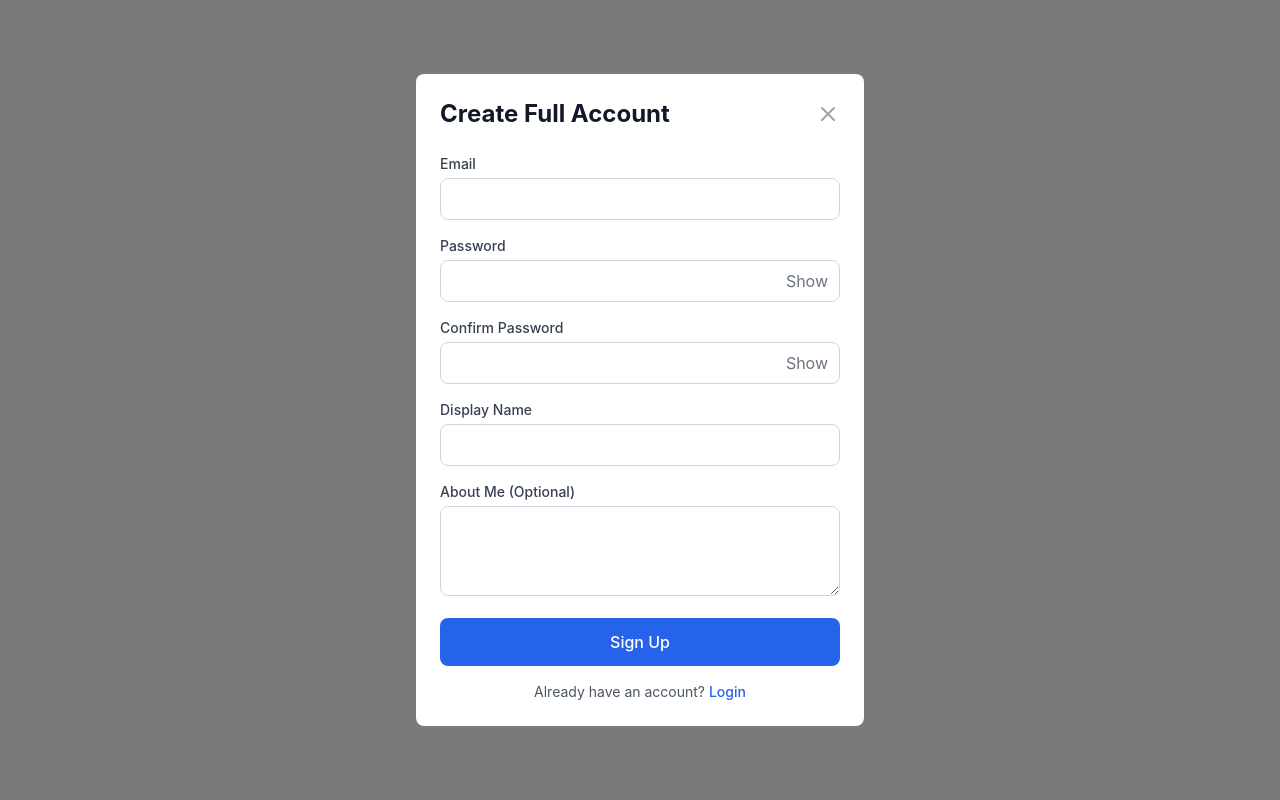
Test: SignupModal - Submission Integration › Error Handling › should display error message when signup fails
The image size is (1280, 800).
# Fill form
Type "test@example.com" into the field labelled "Email" at (640, 199), box [440,178,840,220]
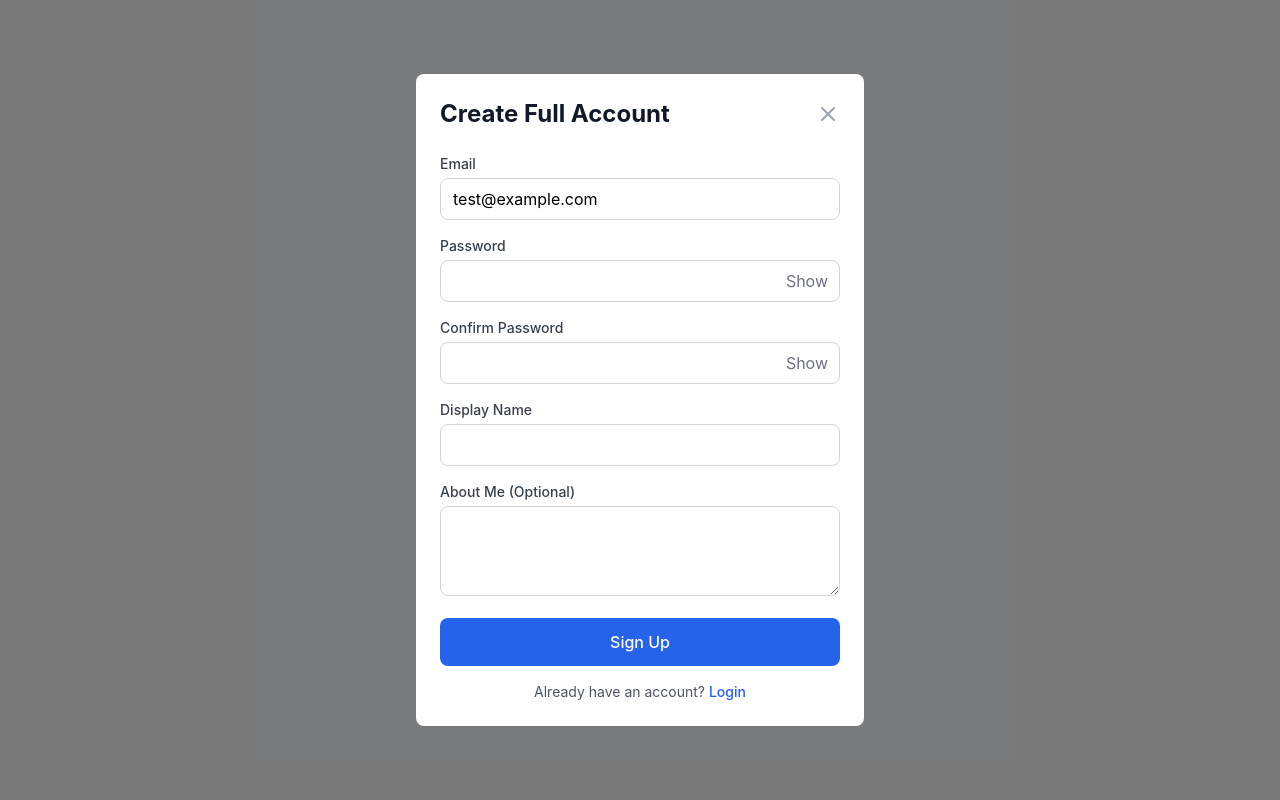
Type "Password123!" into the password field labelled "Password" at (640, 281), box [440,260,840,302]
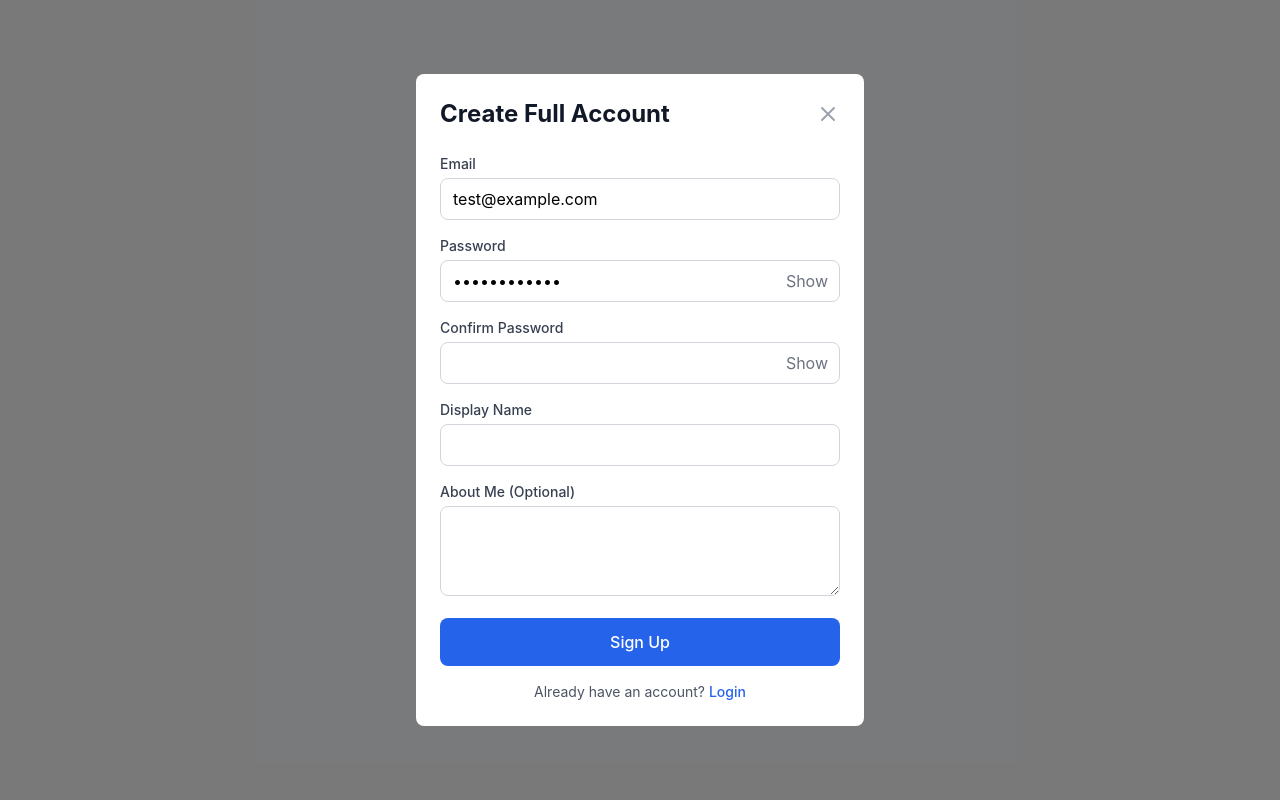
Type "Password123!" into the password field labelled "Confirm Password" at (640, 363), box [440,342,840,384]
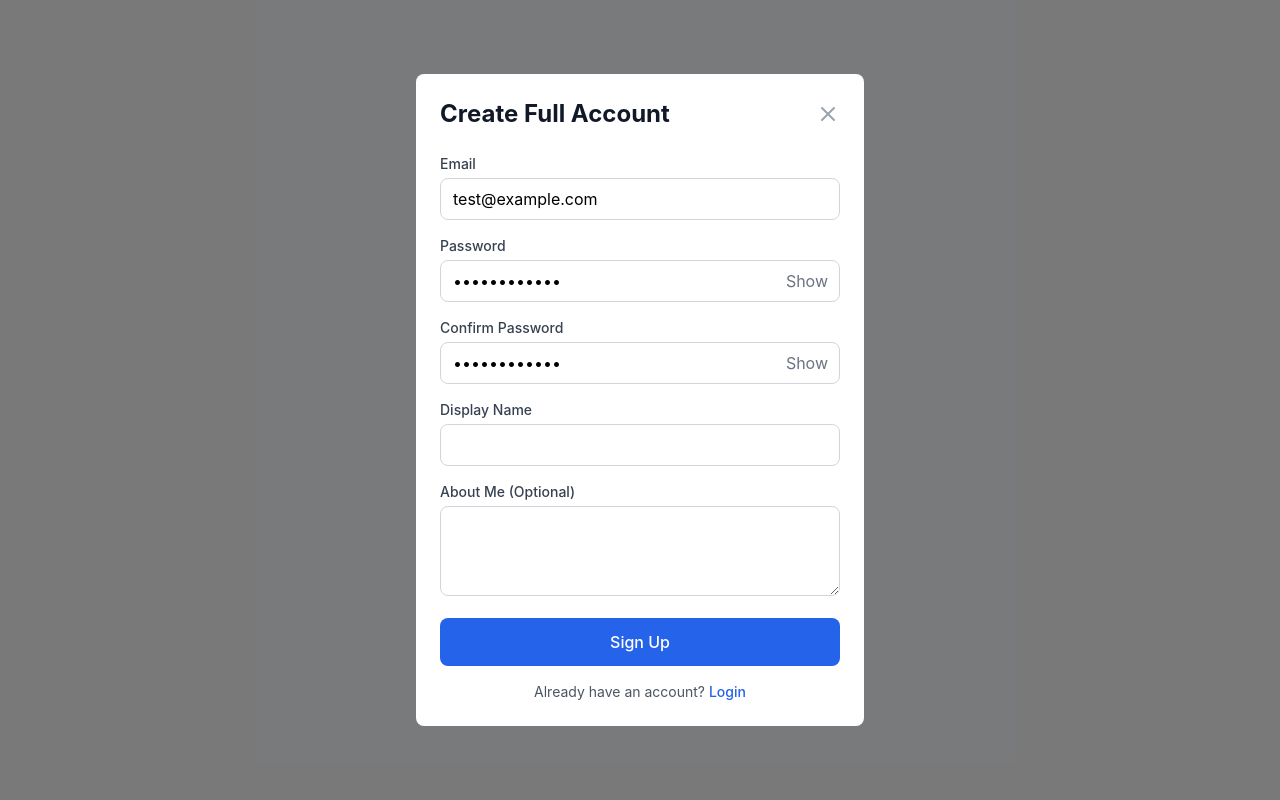
Type "Test User" into the field labelled "Display Name" at (640, 445), box [440,424,840,466]
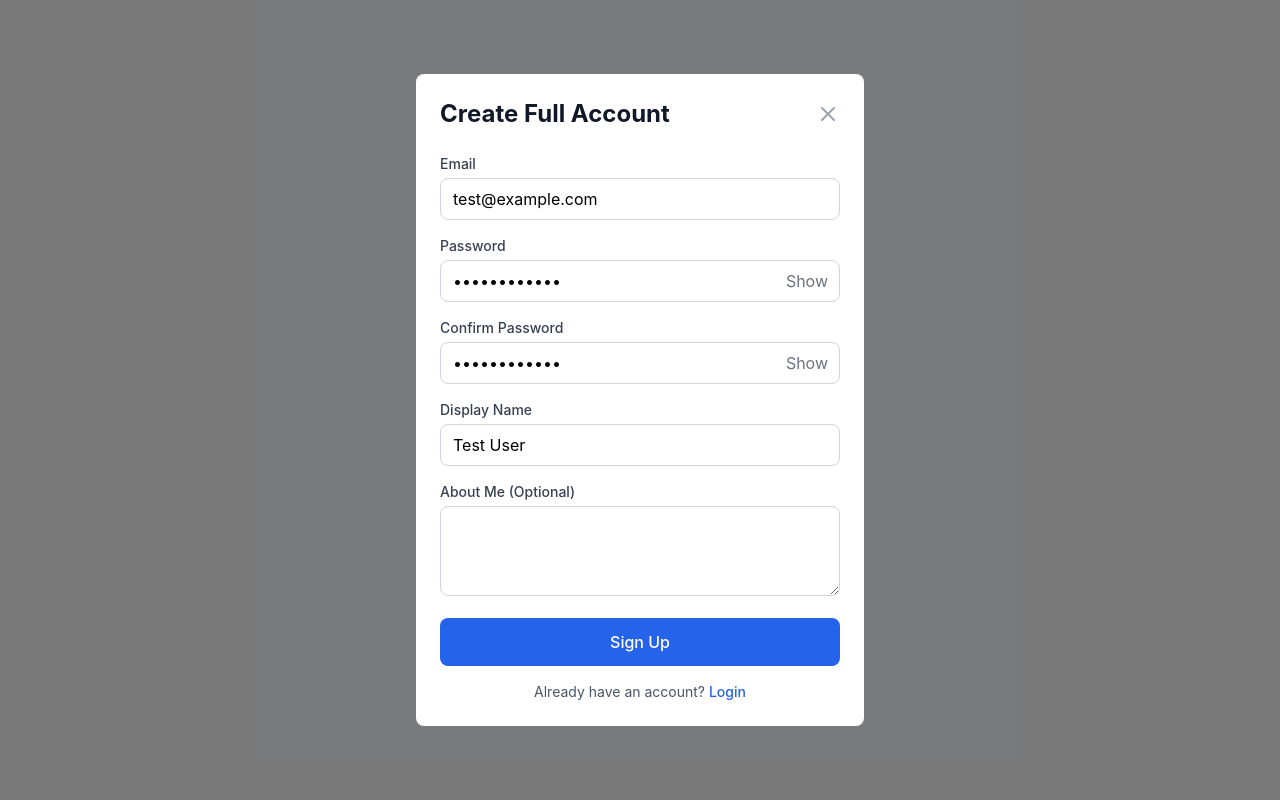
Click the button "Sign Up" at (640, 642), box [440,618,840,666]
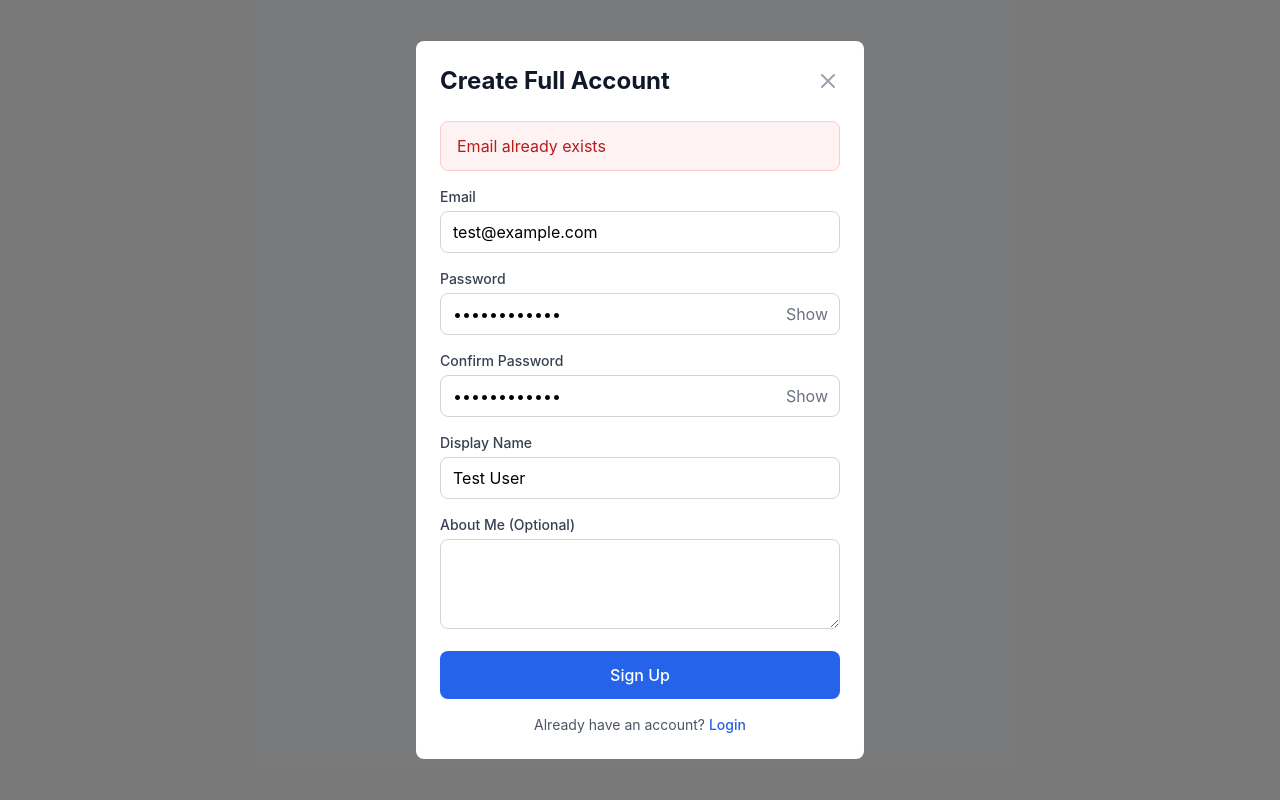
Expected: the text "Email already exists" is shown, [440,121,840,171]
